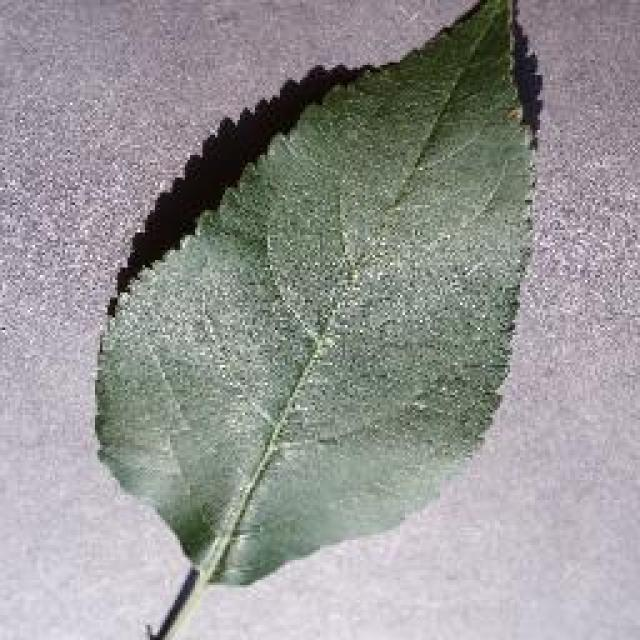apple healthy: (90, 0, 542, 588)
